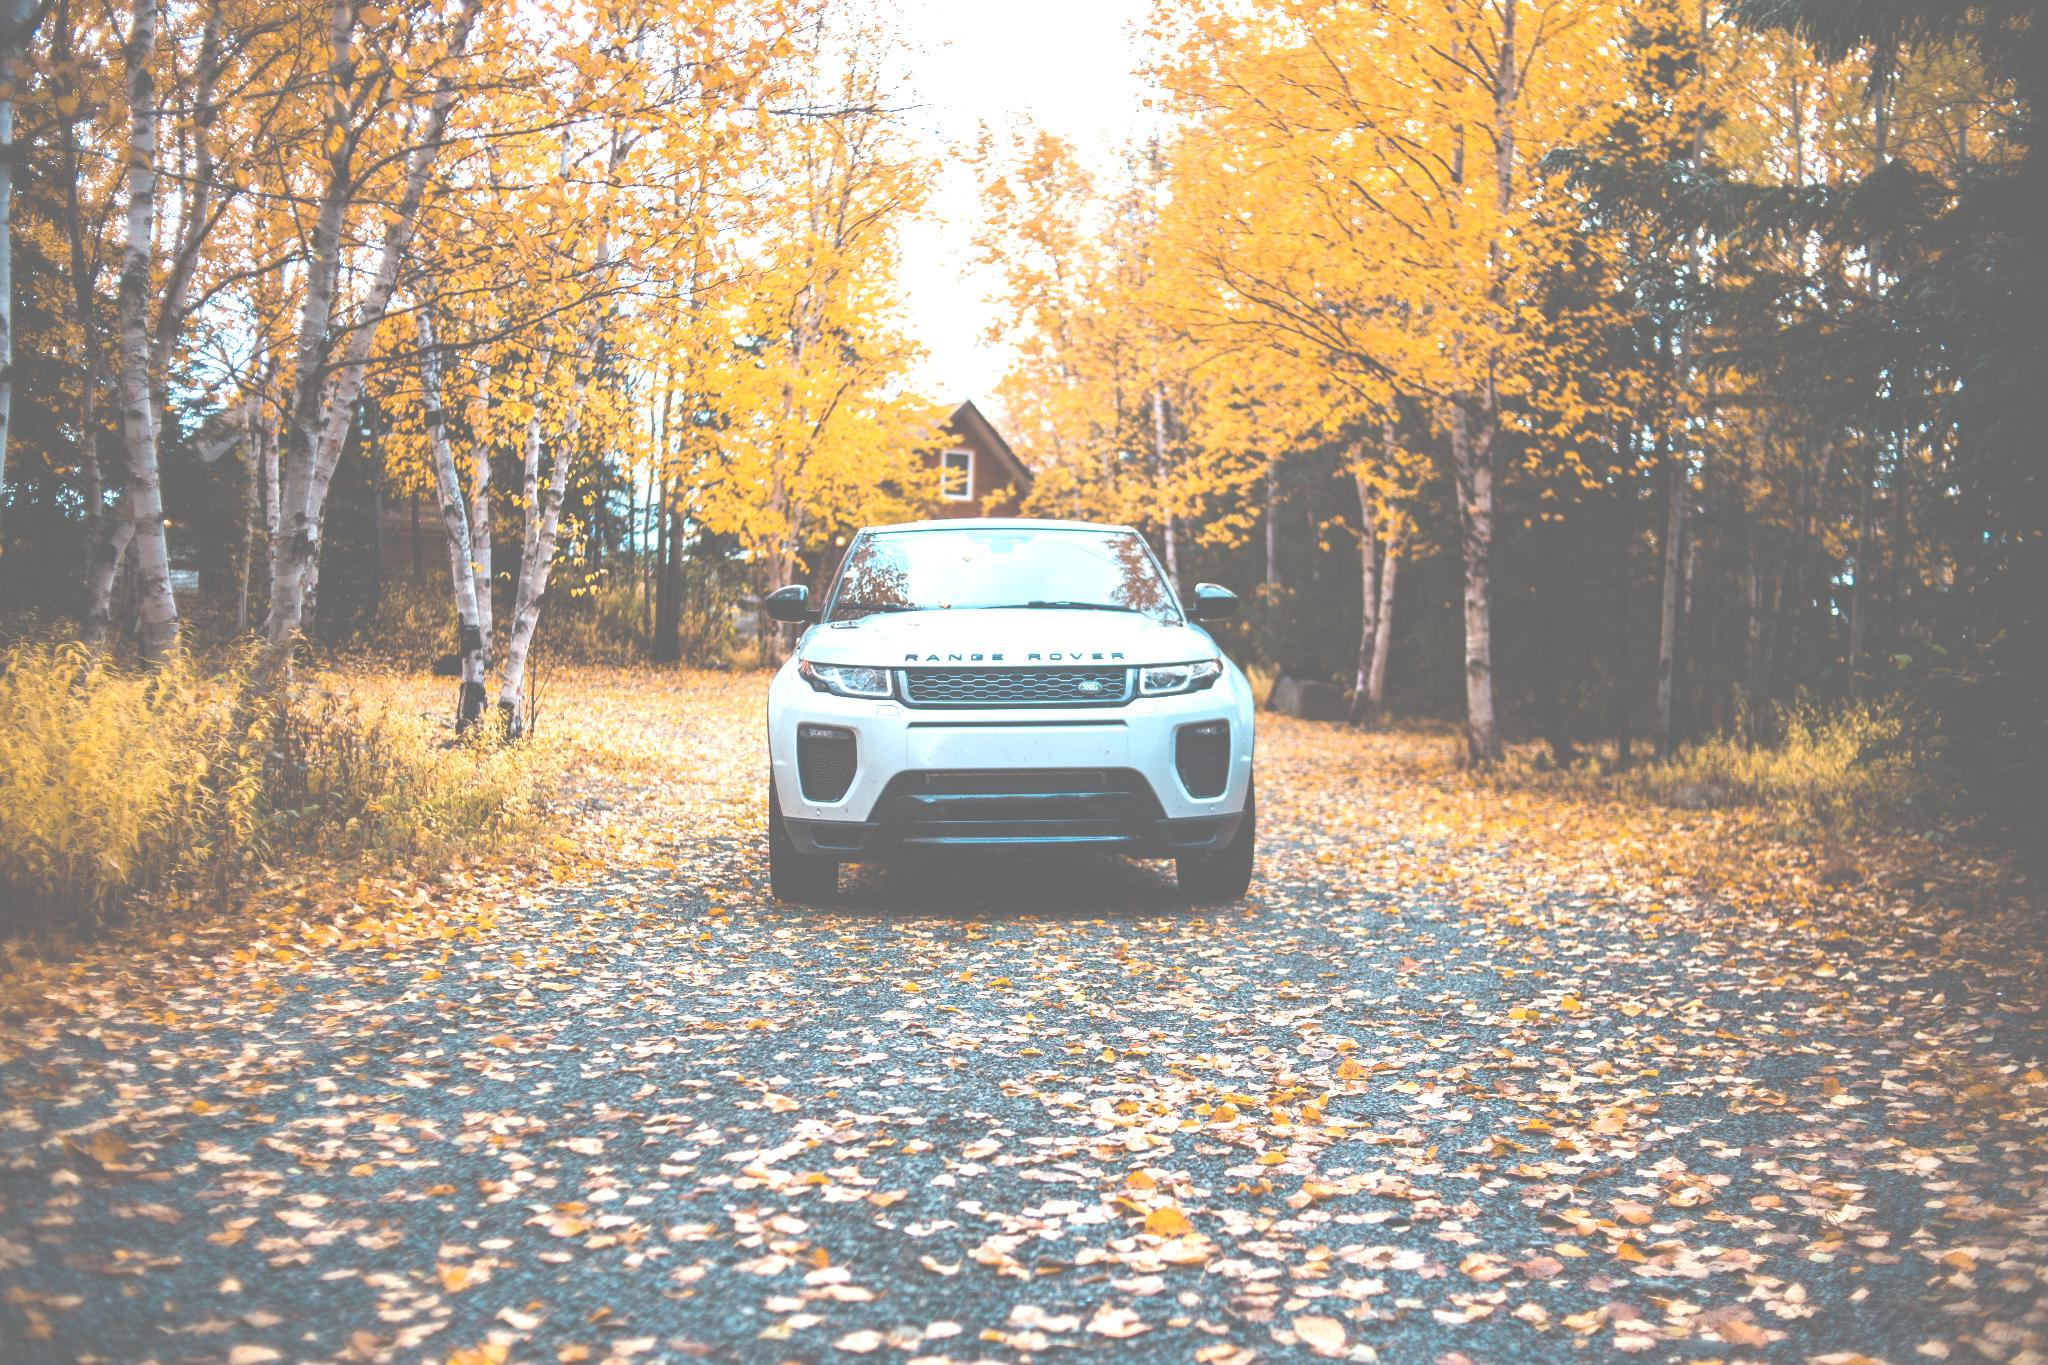range rover: (890, 636, 1140, 678)
